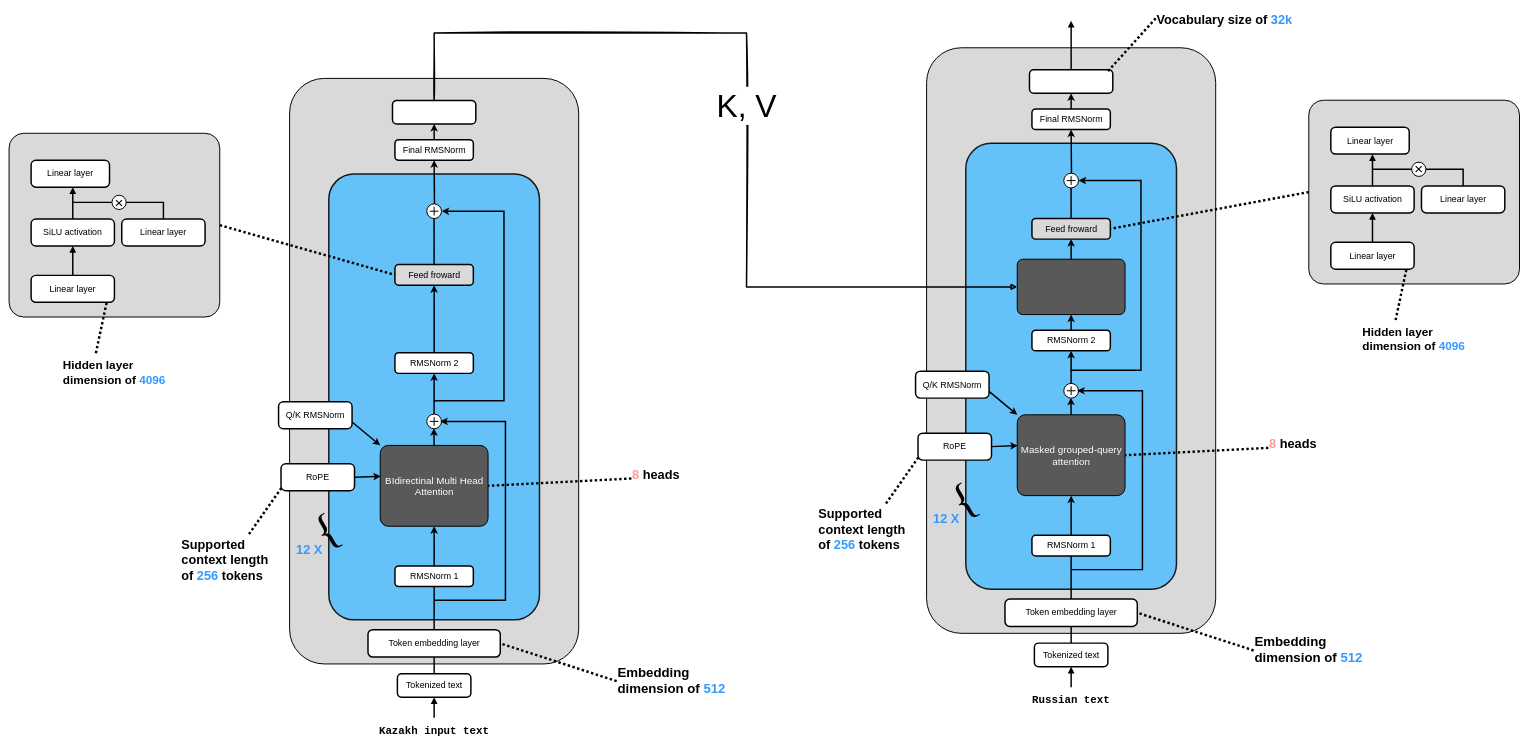
Image size: 1528x751. Some labels were removed from this diagram. The shapes that lost their labels are listed below. From the top down, each one's centre as x and y in pixels, then its label:
At (1071,81): "Linear output layer".
At (434,111): "Encider out".
At (1071,286): "Cross attention".
